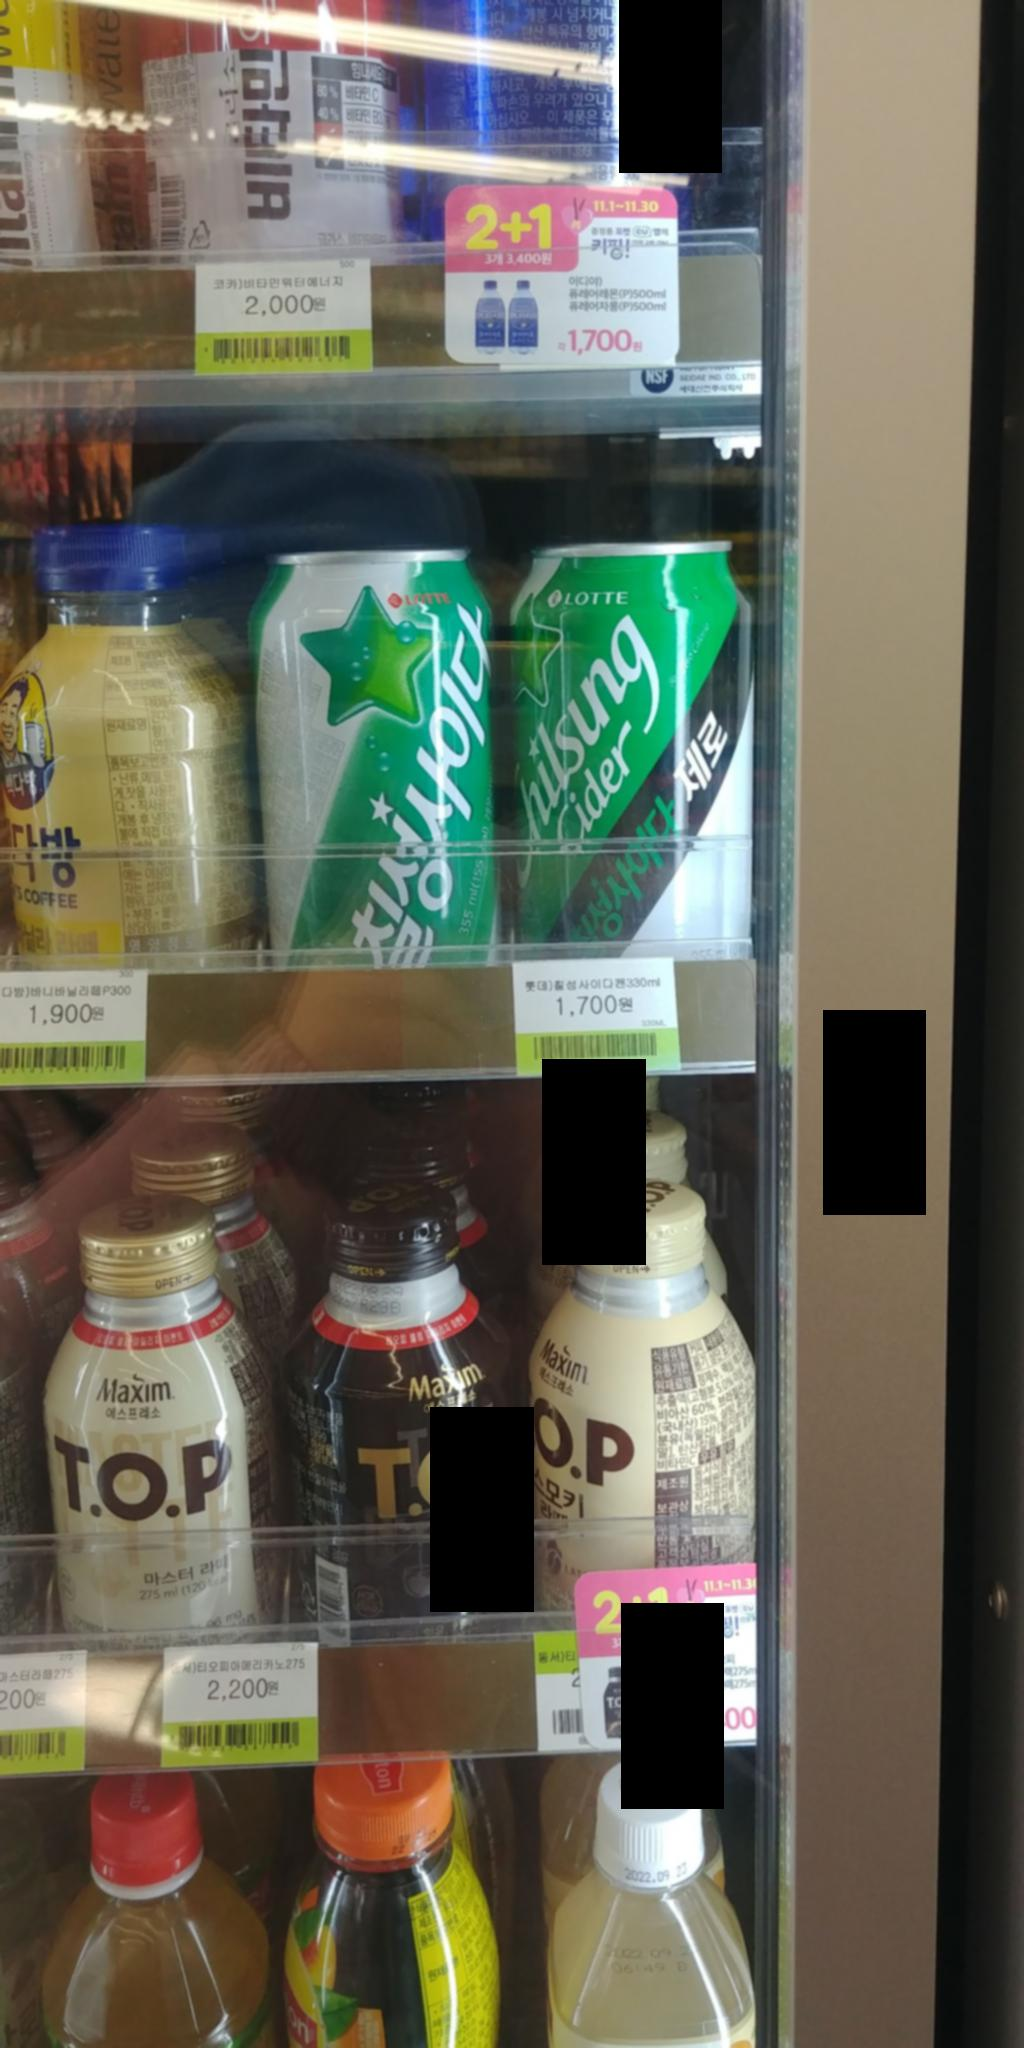TOP_black: (266, 1179, 543, 1640)
chilsungcider: (230, 534, 516, 1006)
